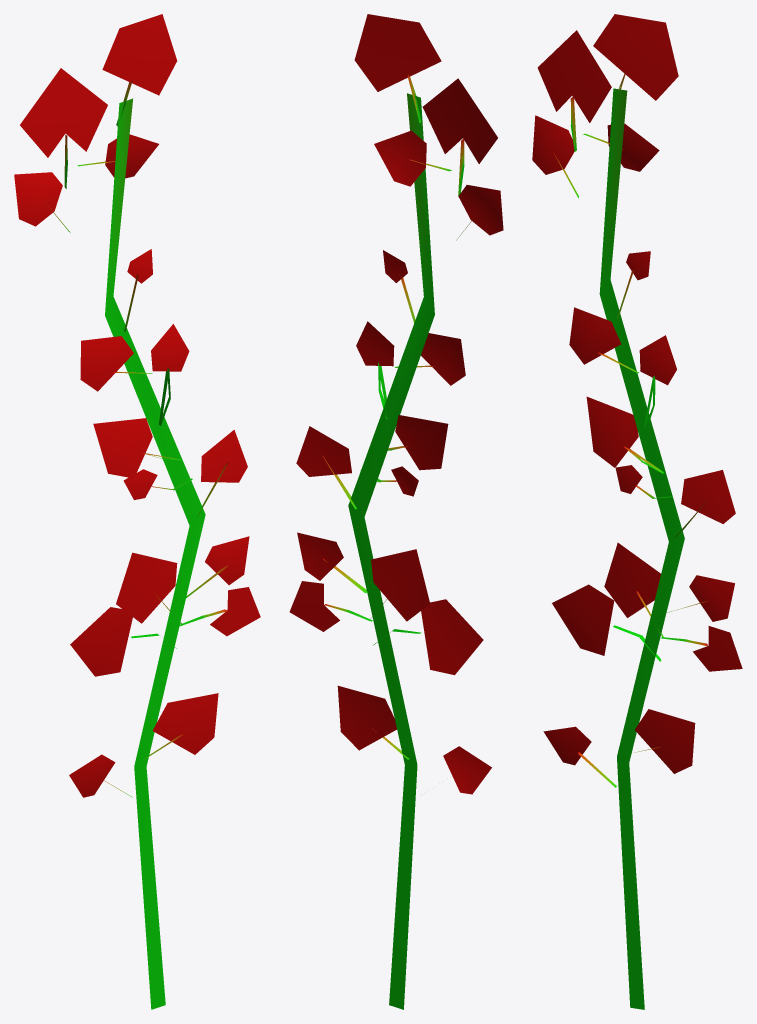
File: Var11_LOD4.fbx
The picture shows the model from 3 angles, left to right: view 1: azimuth 30°, elevation 25°; view 2: azimuth 150°, elevation 25°; view 3: azimuth 330°, elevation 25°; orthographic projection.
Visible parts, largest first — view 1: _8l3j_Var11_LOD4; view 2: _8l3j_Var11_LOD4; view 3: _8l3j_Var11_LOD4.
Part boxes in pixels (<box>): _8l3j_Var11_LOD4: <box>14,14,260,1009</box>; _8l3j_Var11_LOD4: <box>289,14,503,1009</box>; _8l3j_Var11_LOD4: <box>532,14,742,1009</box>.
Size of the model in its own units: 17.78 by 73.48 by 3.2.
